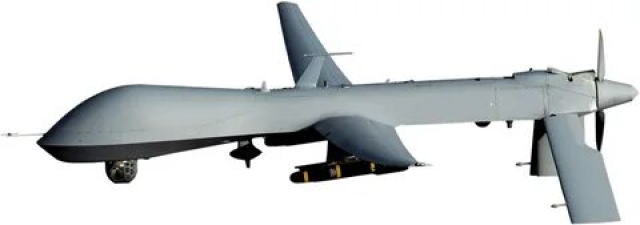military drone: (0, 1, 638, 223)
